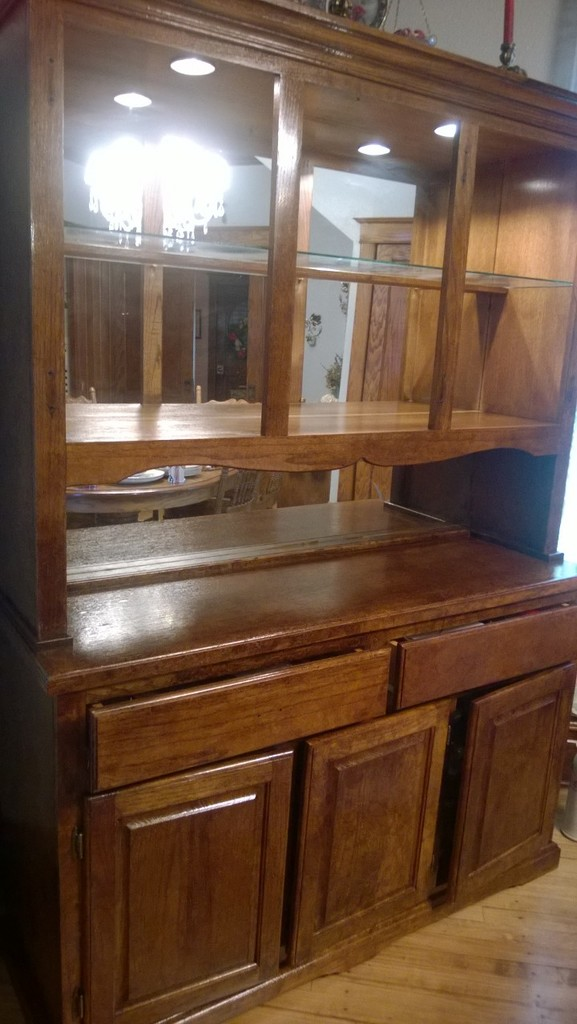cabinet door: (100, 795, 275, 983), (95, 666, 392, 750), (311, 728, 429, 897), (474, 698, 563, 859), (400, 596, 573, 678)
